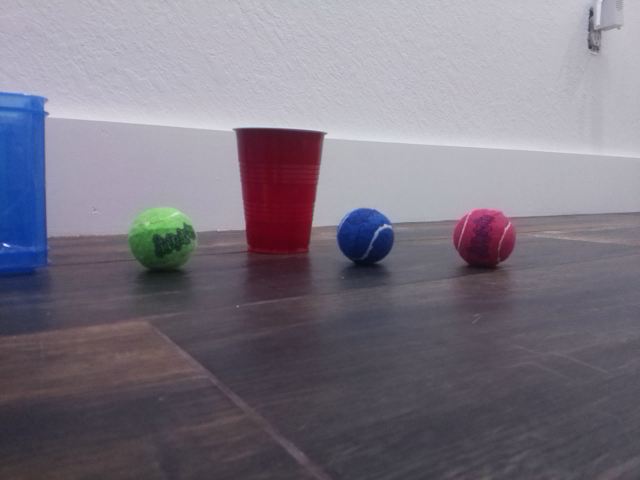blue-ball: (336, 206, 395, 266)
green-ball: (127, 205, 197, 273)
red-ball: (452, 208, 518, 269)
